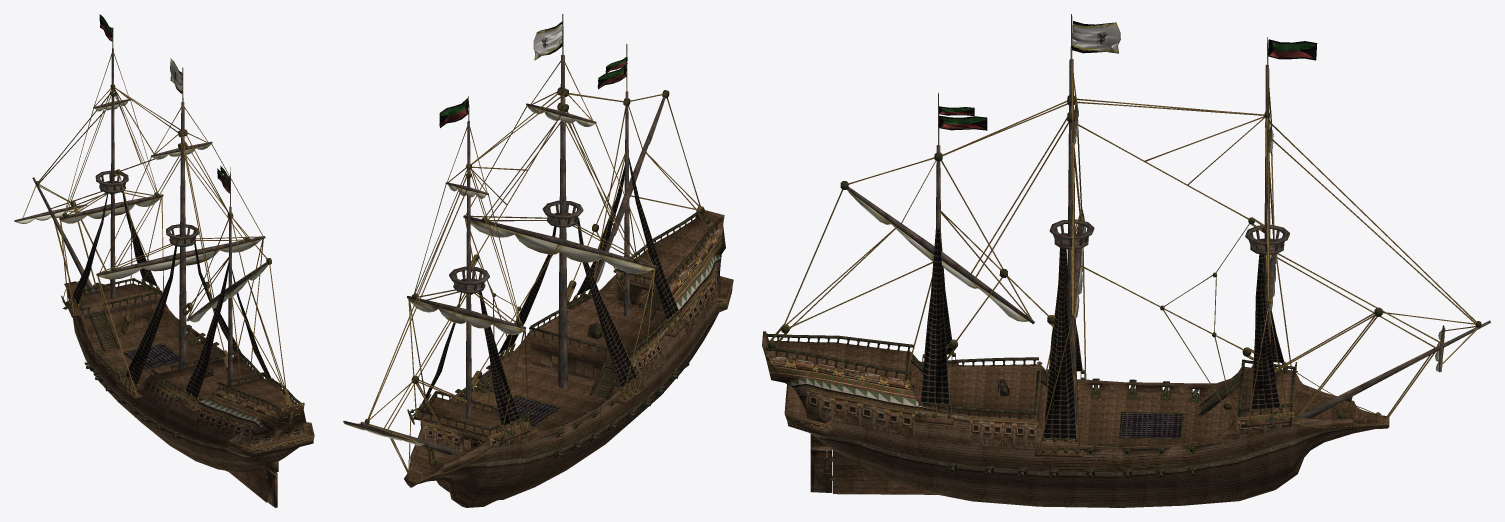
The picture shows the model from 3 angles, left to right: view 1: azimuth 30°, elevation 25°; view 2: azimuth 150°, elevation 25°; view 3: azimuth 270°, elevation 25°; orthographic projection. The views are drawn at different scales.
Visible parts, largest first — view 1: zengin; view 2: zengin; view 3: zengin.
Boxes of the visible parts, box(x1,y1,x2,y2) form: zengin: box(14, 14, 314, 507); zengin: box(343, 14, 733, 507); zengin: box(762, 14, 1490, 507).
Size of what is drawn, in the model's own units: 5.81 by 12.6 by 16.94.
Materials: 42 (42 with a texture image).
